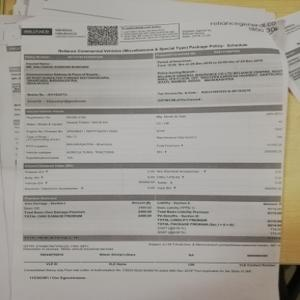image: (21, 27, 55, 36)
table: (23, 105, 283, 162), (21, 47, 283, 103), (22, 197, 282, 235), (23, 161, 284, 197)
